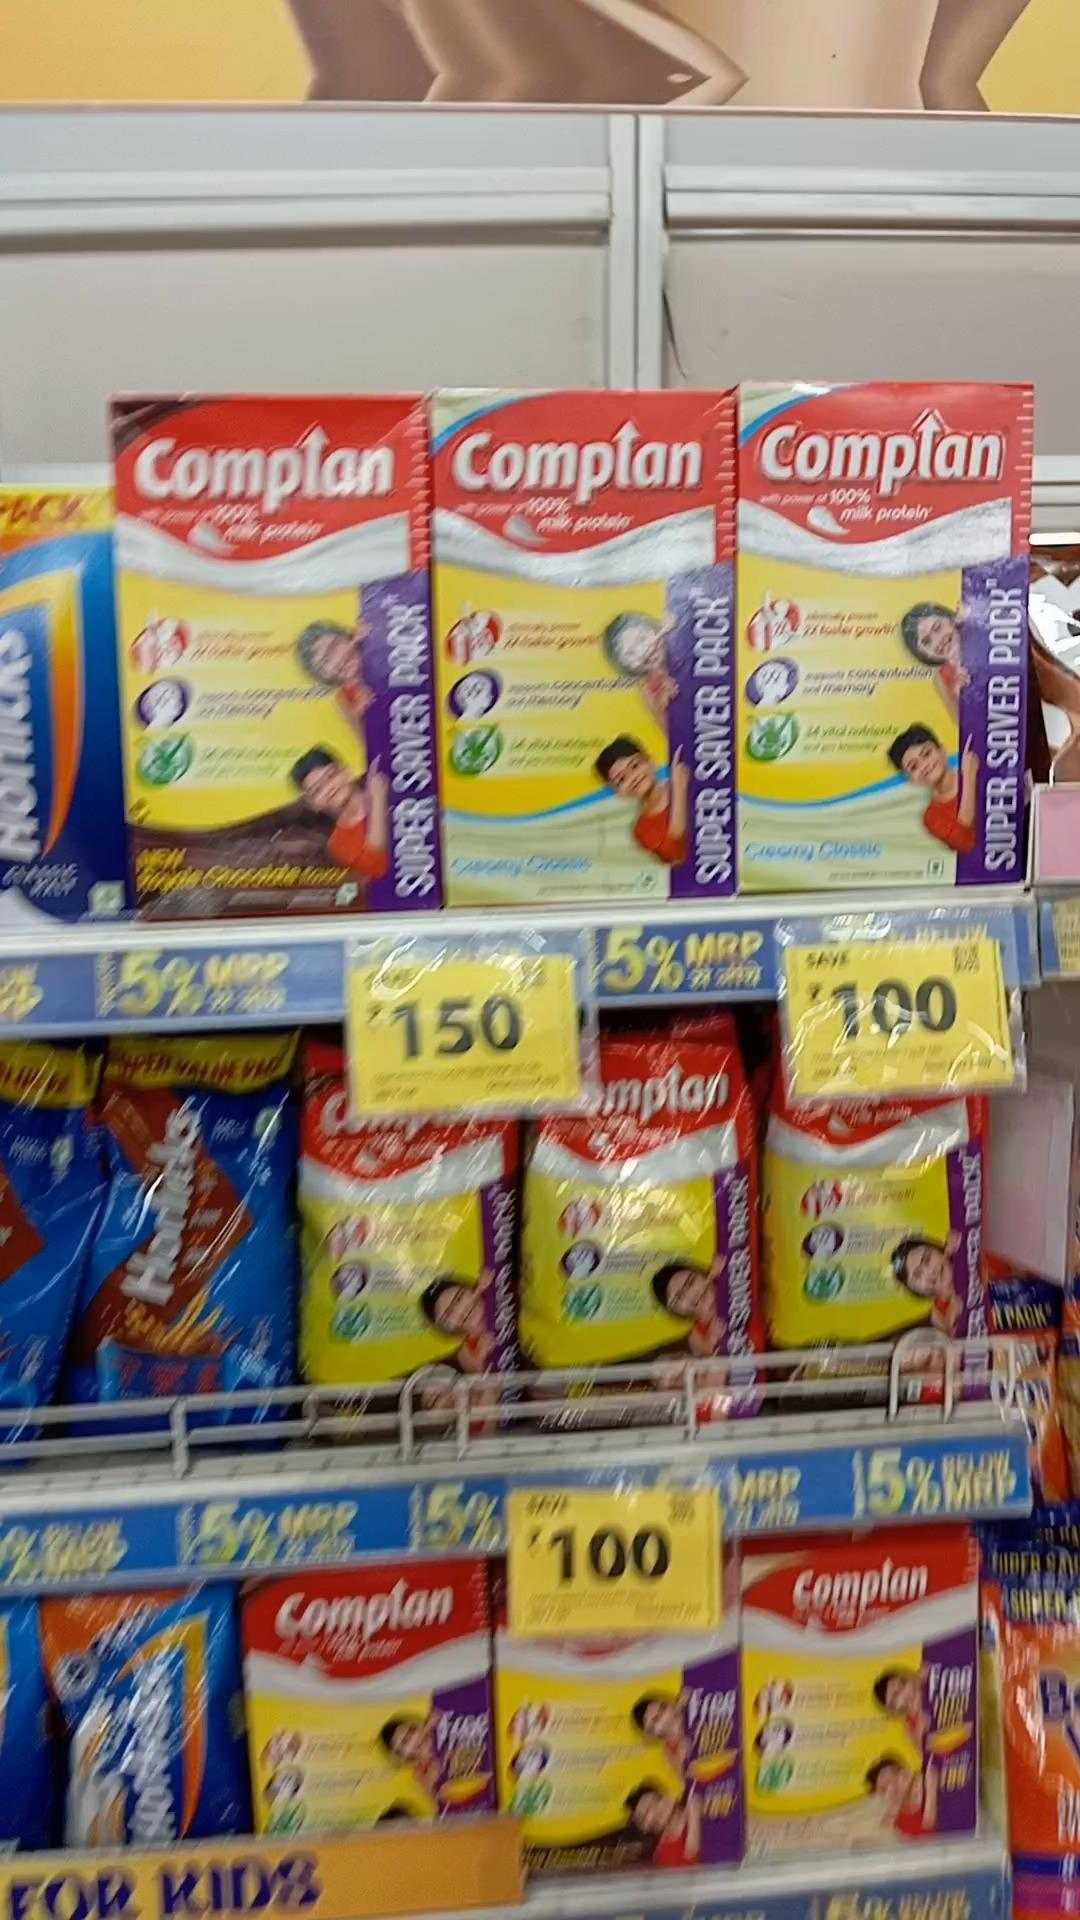COMPLAN_CHOCOLATE_1_KG_PACK: (119, 401, 431, 914)
COMPLAN_CHOCOLATE_500_GMS_PACK: (502, 1609, 737, 1873), (253, 1571, 472, 1825)
COMPLAN_KESAR_BADAM_500_GMS_PACK: (757, 1531, 972, 1824)
COMPLAN_RC_POUCH_700_GMS_12: (525, 1025, 762, 1412), (295, 1039, 517, 1431), (771, 1089, 984, 1377)
HORLICK_CHOCOLATE_750_G_POUCH: (92, 1033, 290, 1411)
HORLICK_CLASSIC_MALT_750_G_POUCH: (55, 1585, 236, 1838)
